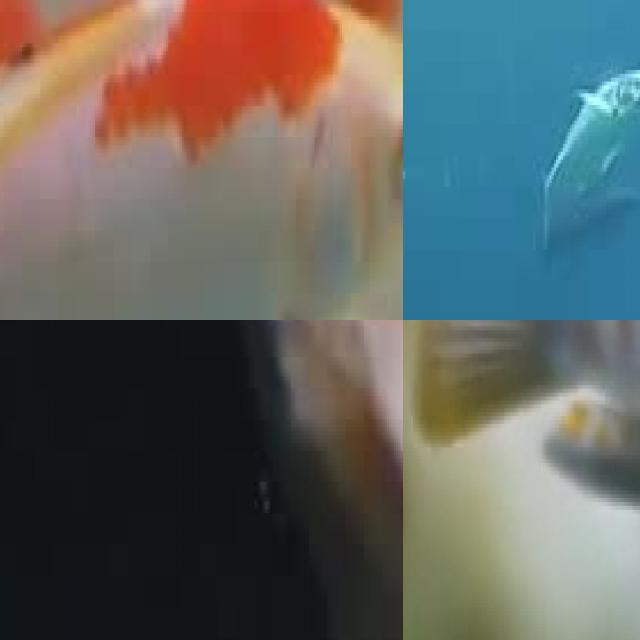fish: (0, 0, 403, 320), (406, 320, 640, 603)
